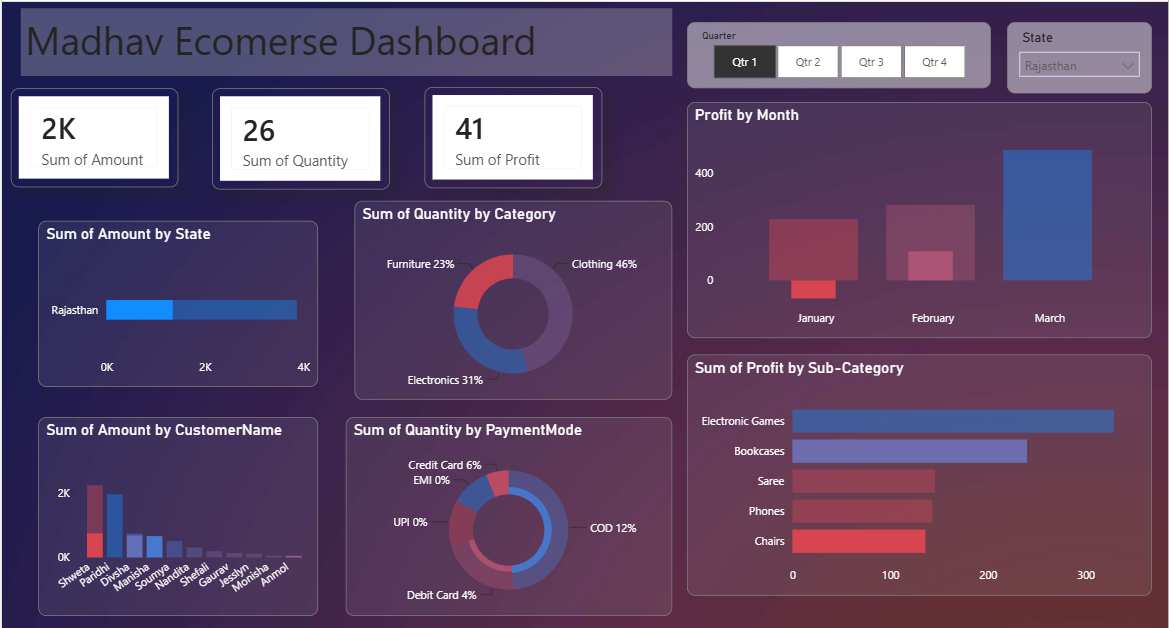

The dashboard page shown, as its layout file describes it:
{"tool":"powerbi","page":{"name":"Page 1","canvas":[1280,720],"ordinal":0},"visuals":[{"type":"columnChart","title":"Profit by Month","fields":{"Y":["Sum(Sheet1.Profit)"],"Category":["Sheet2.Order Date.Variation.Date Hierarchy.Month"]},"box":[752,120.8,510.5,259.3],"z":0},{"type":"barChart","fields":{"Category":["Sheet1.Sub-Category"],"Y":["Sum(Sheet1.Profit)"]},"box":[752,397.9,510.5,264.8],"z":1000},{"type":"donutChart","fields":{"Category":["Sheet1.Category"],"Y":["Sum(Sheet1.Quantity)"]},"box":[387,229.2,348.5,218.2],"z":2000},{"type":"donutChart","fields":{"Y":["Sum(Sheet1.Quantity)"],"Category":["Sheet1.PaymentMode"]},"box":[377.4,466.6,358,218],"z":3000},{"type":"cardVisual","fields":{"Data":["Sum(Sheet1.Amount)"]},"box":[9.6,105.7,183.9,108.4],"z":4000},{"type":"cardVisual","fields":{"Data":["Sum(Sheet1.Quantity)"]},"box":[230.5,105.7,194.9,111.1],"z":5000},{"type":"cardVisual","fields":{"Data":["Sum(Sheet1.Profit)"]},"box":[463.8,104.3,194.9,111.1],"z":6000},{"type":"barChart","fields":{"Category":["Sheet2.State"],"Y":["Sum(Sheet1.Amount)"]},"box":[39.8,251.1,307.4,182.5],"z":7000},{"type":"columnChart","fields":{"Category":["Sheet2.CustomerName"],"Y":["Sum(Sheet1.Amount)"]},"box":[39.8,466.6,307.4,218.2],"z":8000},{"type":"textbox","box":[20.6,17.8,714.9,74.1],"z":9000},{"type":"slicer","fields":{"Values":["Sheet2.Order Date.Variation.Date Hierarchy.Quarter"]},"box":[752,32.9,333.4,72.7],"z":10000},{"type":"slicer","fields":{"Values":["Sheet2.State"]},"box":[1103.3,32.9,159.2,78.2],"z":11000}]}

Visuals, with their boxes on the page's 1280x720 design canvas (x1, y1, x2, y2). These are canvas units, not pixel positions in the 1169x628 screenshot, which may show the page scaled, cropped or inside an application window:
"Profit by Month" columnChart: box=[752, 121, 1262, 380]
barChart - Sheet1.Sub-Category x Sum(Sheet1.Profit): box=[752, 398, 1262, 663]
donutChart - Sheet1.Category x Sum(Sheet1.Quantity): box=[387, 229, 736, 447]
donutChart - Sum(Sheet1.Quantity) x Sheet1.PaymentMode: box=[377, 467, 735, 685]
cardVisual - Sum(Sheet1.Amount): box=[10, 106, 194, 214]
cardVisual - Sum(Sheet1.Quantity): box=[230, 106, 425, 217]
cardVisual - Sum(Sheet1.Profit): box=[464, 104, 659, 215]
barChart - Sheet2.State x Sum(Sheet1.Amount): box=[40, 251, 347, 434]
columnChart - Sheet2.CustomerName x Sum(Sheet1.Amount): box=[40, 467, 347, 685]
textbox: box=[21, 18, 736, 92]
slicer - Sheet2.Order Date.Variation.Date Hierarchy.Quarter: box=[752, 33, 1085, 106]
slicer - Sheet2.State: box=[1103, 33, 1262, 111]
